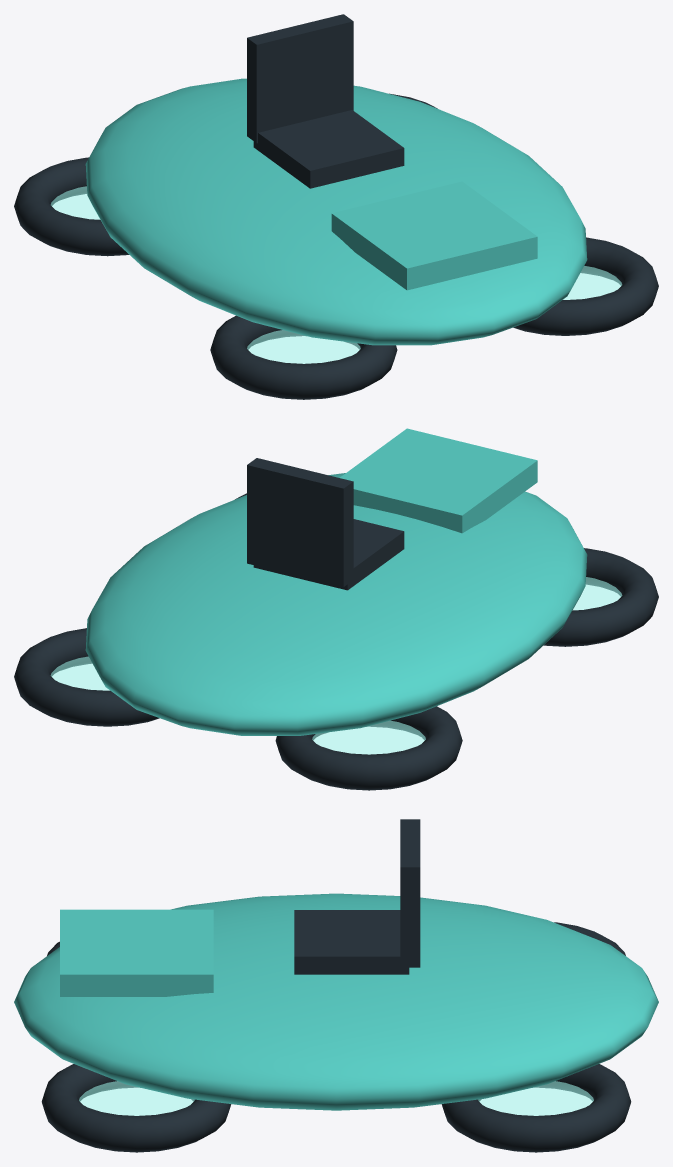
The model's file is hover.glb.
3 renders of one model, top to bottom at view 1: azimuth 30°, elevation 25°; view 2: azimuth 150°, elevation 25°; view 3: azimuth 270°, elevation 25°, orthographic.
Visible parts, largest first — view 1: hover; view 2: hover; view 3: hover.
Part boxes in pixels (bbox=[...]): hover: bbox=[14, 14, 658, 399]; hover: bbox=[14, 428, 658, 790]; hover: bbox=[14, 819, 658, 1152].
Size of the model in its own units: 3.24 by 1.5 by 4.2.
